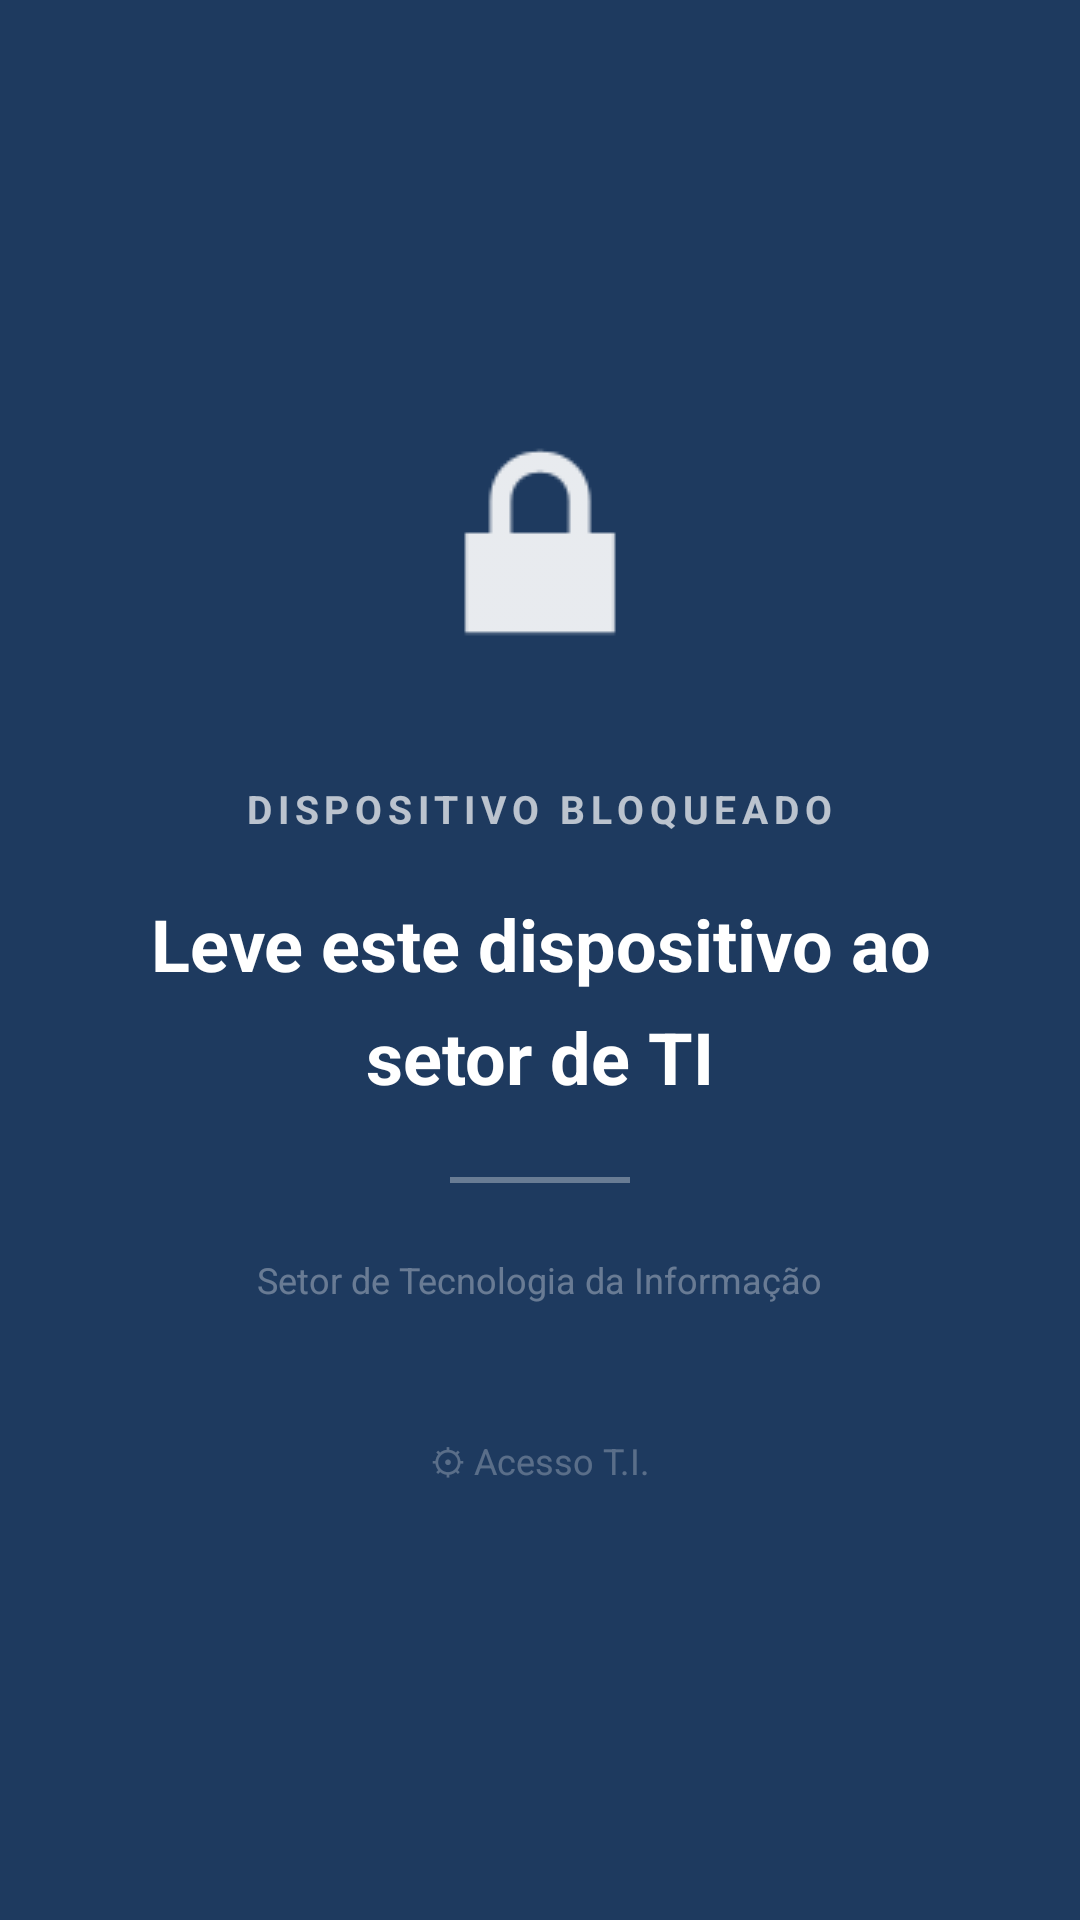

Icons on this 1080px×1920px Android screen, each with the point to tap as (x=x, y=y):
lock: (x=540, y=542)
